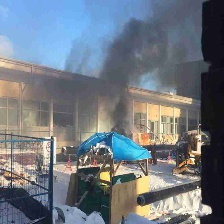smoke: (54, 1, 201, 102)
